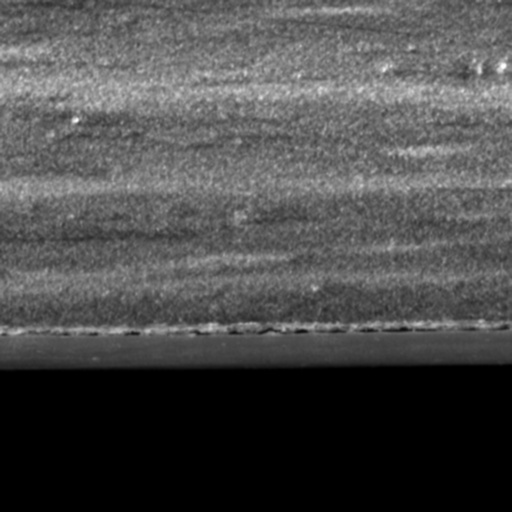jiaofeng: (222, 318, 448, 339)
